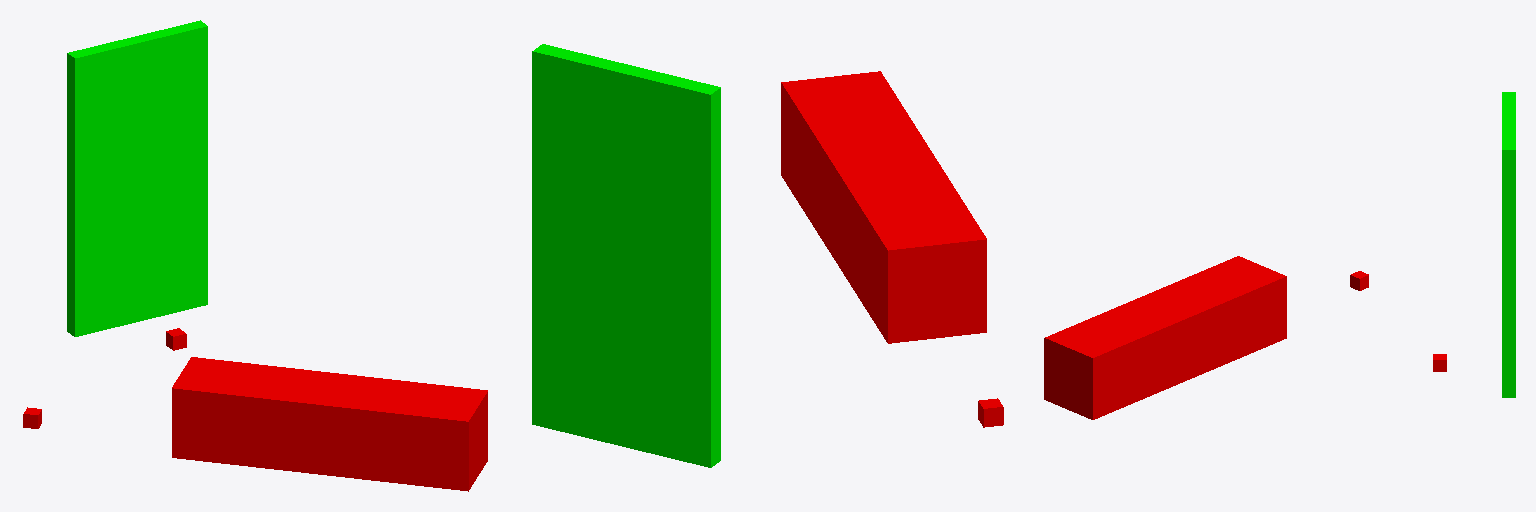
URDF robot description (my_custom_urdf):
<?xml version="1.0"?>
<!-- created with Phobos 1.0.1 "Capricious Choutengan" -->
  <robot name="my_custom_urdf">

    <link name="base_link">
      <inertial>
        <origin xyz="0 0 0" rpy="0 0 0"/>
        <mass value="0.001"/>
        <inertia ixx="0.001" ixy="0" ixz="0" iyy="0.001" iyz="0" izz="0.001"/>
      </inertial>
      <visual name="visual_cube_base">
        <origin xyz="0 0 0" rpy="0 0 0"/>
        <geometry>
          <box size="0 0 0.2"/>
        </geometry>
        <material name="lavender"/>
      </visual>
      <collision name="collision_cube_base">
        <origin xyz="0 0 0" rpy="0 0 0"/>
        <geometry>
          <box size="0 0 0.2"/>
        </geometry>
      </collision>
    </link>

    <link name="link0">
      <inertial>
        <origin xyz="0 0 0" rpy="0 0 0"/>
        <mass value="0.001"/>
        <inertia ixx="0.001" ixy="0" ixz="0" iyy="0.001" iyz="0" izz="0.001"/>
      </inertial>
      <visual name="visual_cube0">
        <origin xyz="0 0 0" rpy="0 0 0"/>
        <geometry>
          <box size="2.0 0.2 4.0"/>
        </geometry>
        <material name="green"/>
      </visual>
      <collision name="collision_cube0">
        <origin xyz="0 0 0" rpy="0 0 0"/>
        <geometry>
          <box size="2.0 0.2 4.0"/>
        </geometry>
      </collision>
    </link>

    <link name="link1">
      <inertial>
        <origin xyz="0 0 0" rpy="0 0 0"/>
        <mass value="0.001"/>
        <inertia ixx="0.001" ixy="0" ixz="0" iyy="0.001" iyz="0" izz="0.001"/>
      </inertial>
      <visual name="visual_cube1">
        <origin xyz="0 0 0" rpy="0 0 0"/>
        <geometry>
          <box size="1.0 1.0 4.0"/>
        </geometry>
        <material name="red"/>
      </visual>
      <collision name="collision_cube1">
        <origin xyz="0 0 0" rpy="0 0 0"/>
        <geometry>
          <box size="1.0 1.0 4.0"/>
        </geometry>
      </collision>
    </link>

    <link name="link2">
      <inertial>
        <origin xyz="0 0 0" rpy="0 0 0"/>
        <mass value="0.001"/>
        <inertia ixx="0.001" ixy="0" ixz="0" iyy="0.001" iyz="0" izz="0.001"/>
      </inertial>
      <visual name="visual_cube2">
        <origin xyz="0 0 0" rpy="0 0 0"/>
        <geometry>
          <box size="0.2 0.2 0.2"/>
        </geometry>
        <material name="red"/>
      </visual>
      <collision name="collision_cube2">
        <origin xyz="0 0 0" rpy="0 0 0"/>
        <geometry>
          <box size="0.2 0.2 0.2"/>
        </geometry>
      </collision>
    </link>

    <link name="link3">
      <inertial>
        <origin xyz="0 0 0" rpy="0 0 0"/>
        <mass value="0.001"/>
        <inertia ixx="0.001" ixy="0" ixz="0" iyy="0.001" iyz="0" izz="0.001"/>
      </inertial>
      <visual name="visual_cube3">
        <origin xyz="0 0 0" rpy="0 0 0"/>
        <geometry>
          <box size="0.2 0.2 0.2"/>
        </geometry>
        <material name="red"/>
      </visual>
      <collision name="collision_cube3">
        <origin xyz="0 0 0" rpy="0 0 0"/>
        <geometry>
          <box size="0.2 0.2 0.2"/>
        </geometry>
      </collision>
    </link>

    <joint name="link0" type="revolute">
      <origin xyz="0 5.0 2.0" rpy="0 0 0"/>
      <parent link="base_link"/>
      <child link="link0"/>
      <axis xyz="0 0 1.0"/>
      <limit lower="-0.7854" upper="0.7854" effort="0" velocity="0"/>
    </joint>

    <joint name="link1" type="prismatic">
      <origin xyz="0 0 0.5" rpy="-1.5708 0 0.7854"/>
      <parent link="base_link"/>
      <child link="link1"/>
      <axis xyz="0 0 1.0"/>
      <limit lower="0" upper="2.0" effort="0" velocity="0"/>
    </joint>

    <joint name="link2" type="prismatic">
      <origin xyz="0 4.0 0.1" rpy="0 0 0"/>
      <parent link="base_link"/>
      <child link="link2"/>
      <axis xyz="0 0 1.0"/>
      <limit lower="0" upper="0" effort="0" velocity="0"/>
    </joint>

    <joint name="link3" type="prismatic">
      <origin xyz="-2.82843 2.82843 0.1" rpy="0 0 0.7854"/>
      <parent link="base_link"/>
      <child link="link3"/>
      <axis xyz="0 0 1.0"/>
      <limit lower="0" upper="0" effort="0" velocity="0"/>
    </joint>

    <material name="green">
      <color rgba="0 1.0 0 1.0"/>
    </material>

    <material name="lavender">
      <color rgba="0.8 0.8 1.0 1.0"/>
    </material>

    <material name="red">
      <color rgba="1.0 0 0 1.0"/>
    </material>

  </robot>

--- Render facts (derived) ---
Views: 3 orthographic renders of the robot side by side, from view 1: azimuth 30°, elevation 25°; view 2: azimuth 150°, elevation 25°; view 3: azimuth 270°, elevation 25°.
Robot: my_custom_urdf — 5 links, 4 joints (1 revolute, 3 prismatic); root link base_link; default pose: all joints at 0.
Visible links, largest first — view 1: link0, link1; view 2: link0, link1, link3; view 3: link1, link0.
Link boxes in pixels (x1,y1,x2,y2): link0: (67,20,207,336); link1: (172,357,487,491); link0: (532,44,720,467); link1: (781,71,986,343); link3: (978,398,1003,427); link1: (1044,256,1286,419); link0: (1502,92,1515,397).
Bounding box of the posed robot: 4.74 × 6.87 × 4.1 m (x, y, z).
Geometry: primitives only (box / cylinder / sphere), no mesh files.